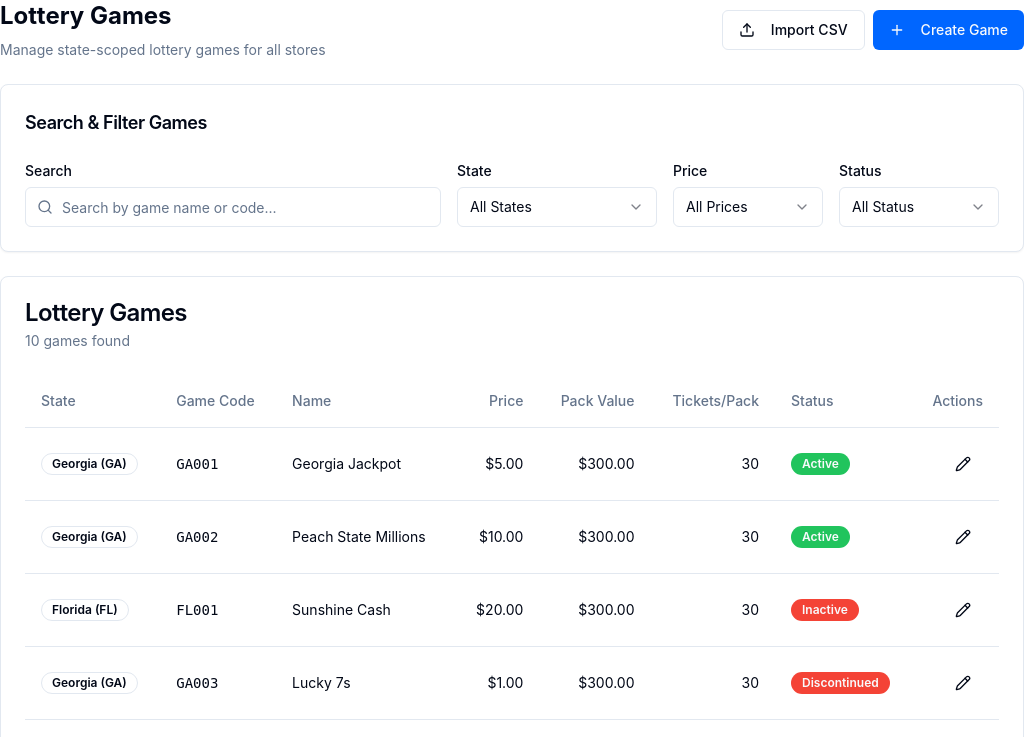
Test: Super Admin Lottery Page: Filter Edge Cases › SADMIN-EDGE-001: [P2] should show empty state when no games match filters
Expected: the text "Georgia Jackpot" is shown, [276,428,450,500]
# User searches for non-existent game
Type "ZZZZNONEXISTENT" into the field with test id "search-games-input" at [233, 207], box [25,187,441,227]
Wait 350 ms
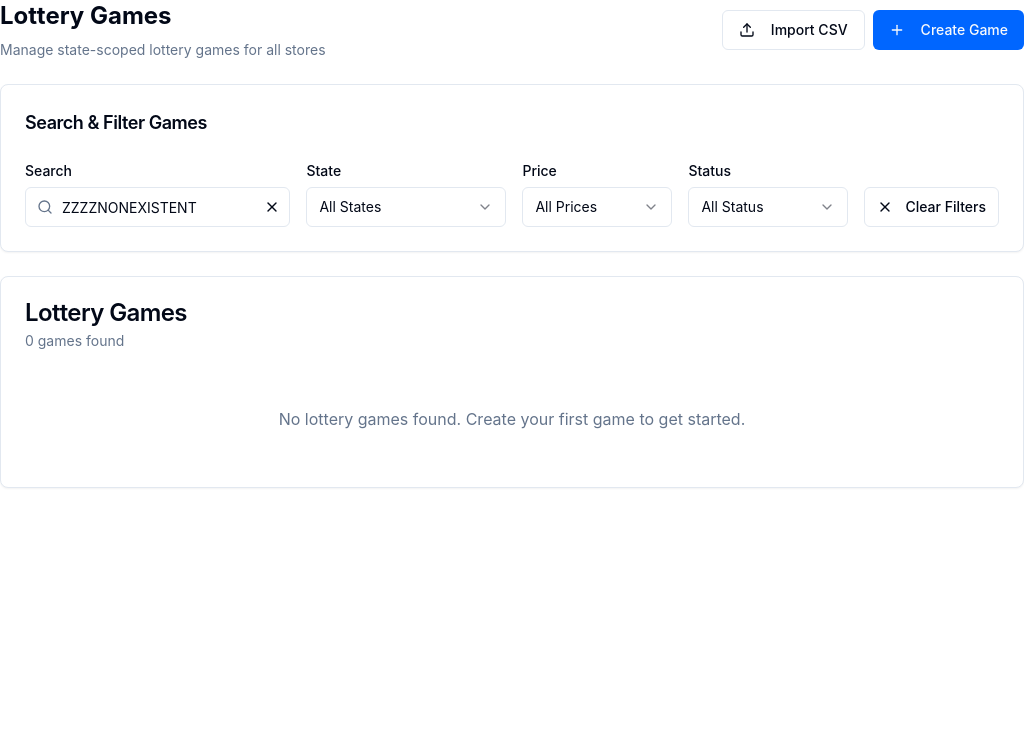
Now the text "Georgia Jackpot" is gone
